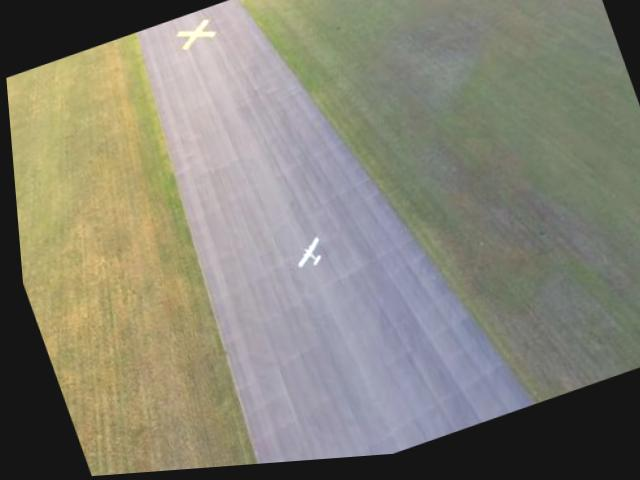uav: (286, 239, 325, 277)
